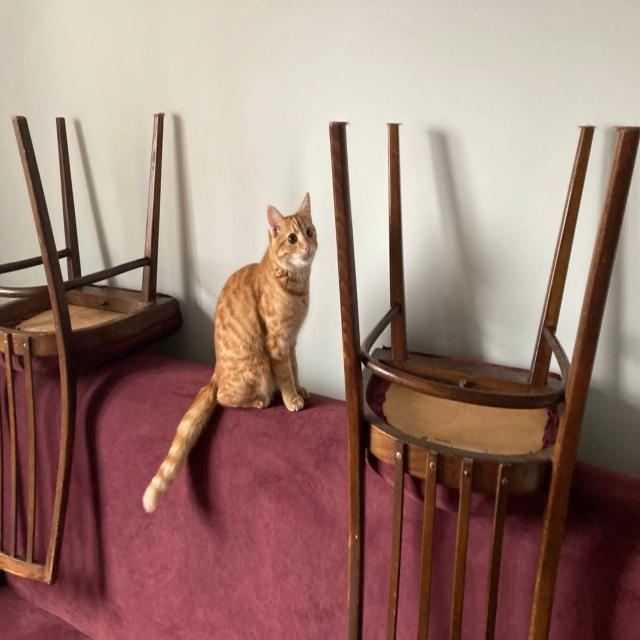red_cat: (190, 189, 322, 442)
